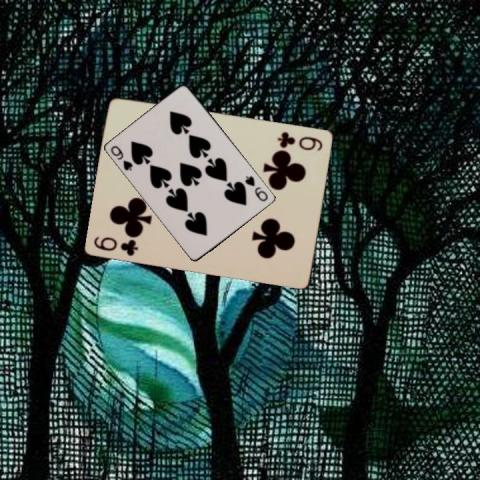6c: (274, 128, 324, 153), (91, 233, 140, 257)
9s: (242, 172, 269, 202), (108, 143, 135, 172)
